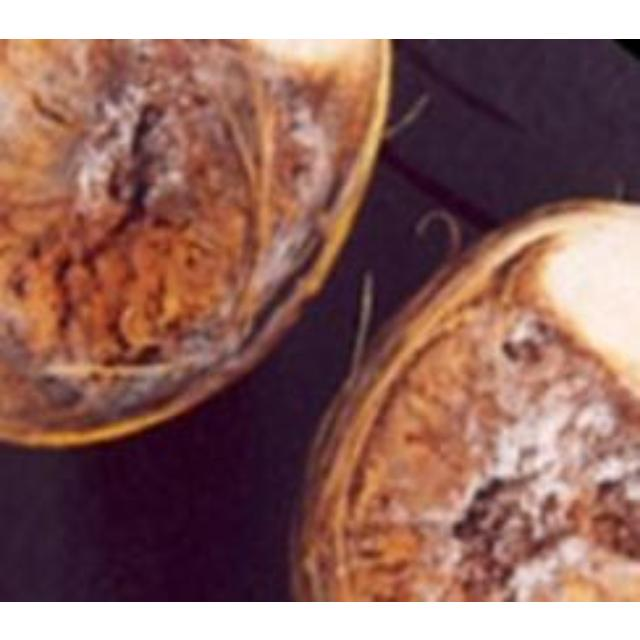damaged: (0, 38, 393, 455), (291, 198, 637, 599)
